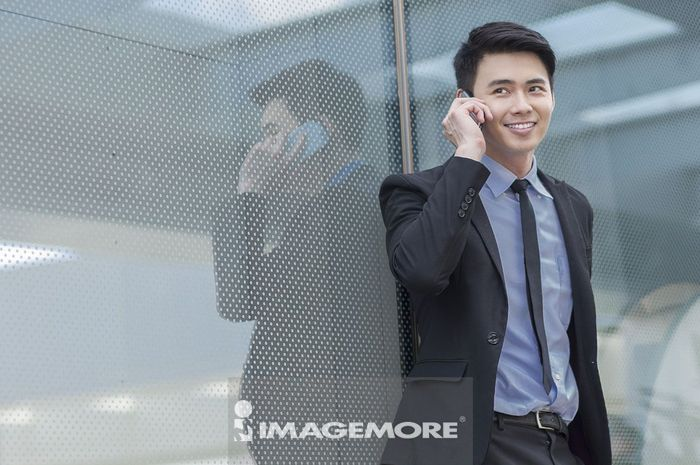talk: (441, 72, 553, 165)
